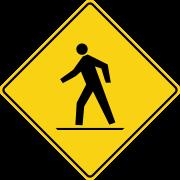Pedestrian Crossing: (28, 17, 161, 161)
